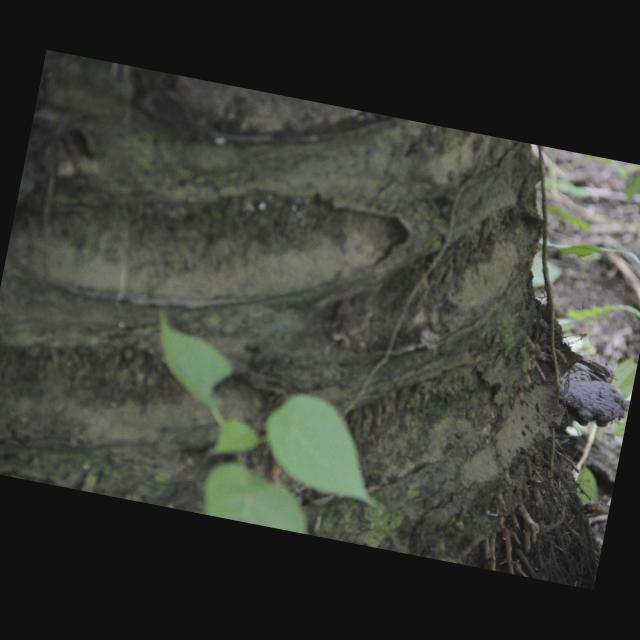ganoderma: (552, 372, 634, 438)
